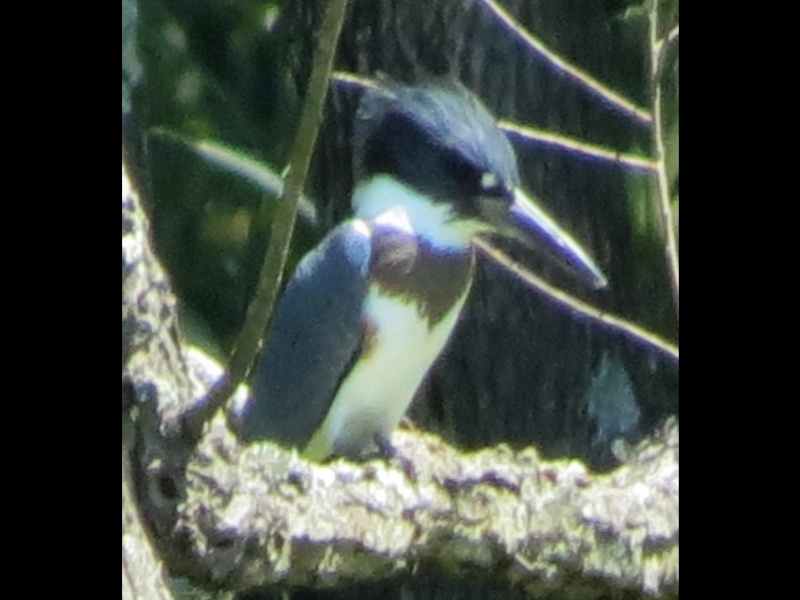kingfisher: (231, 73, 612, 468)
